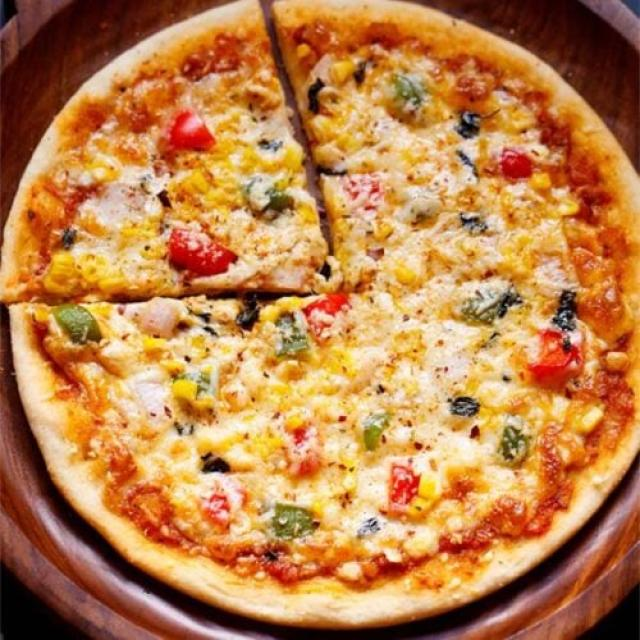피자: (0, 0, 640, 640)
